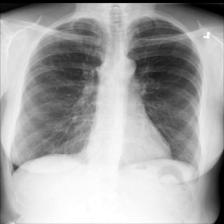normal: (7, 14, 206, 184)
